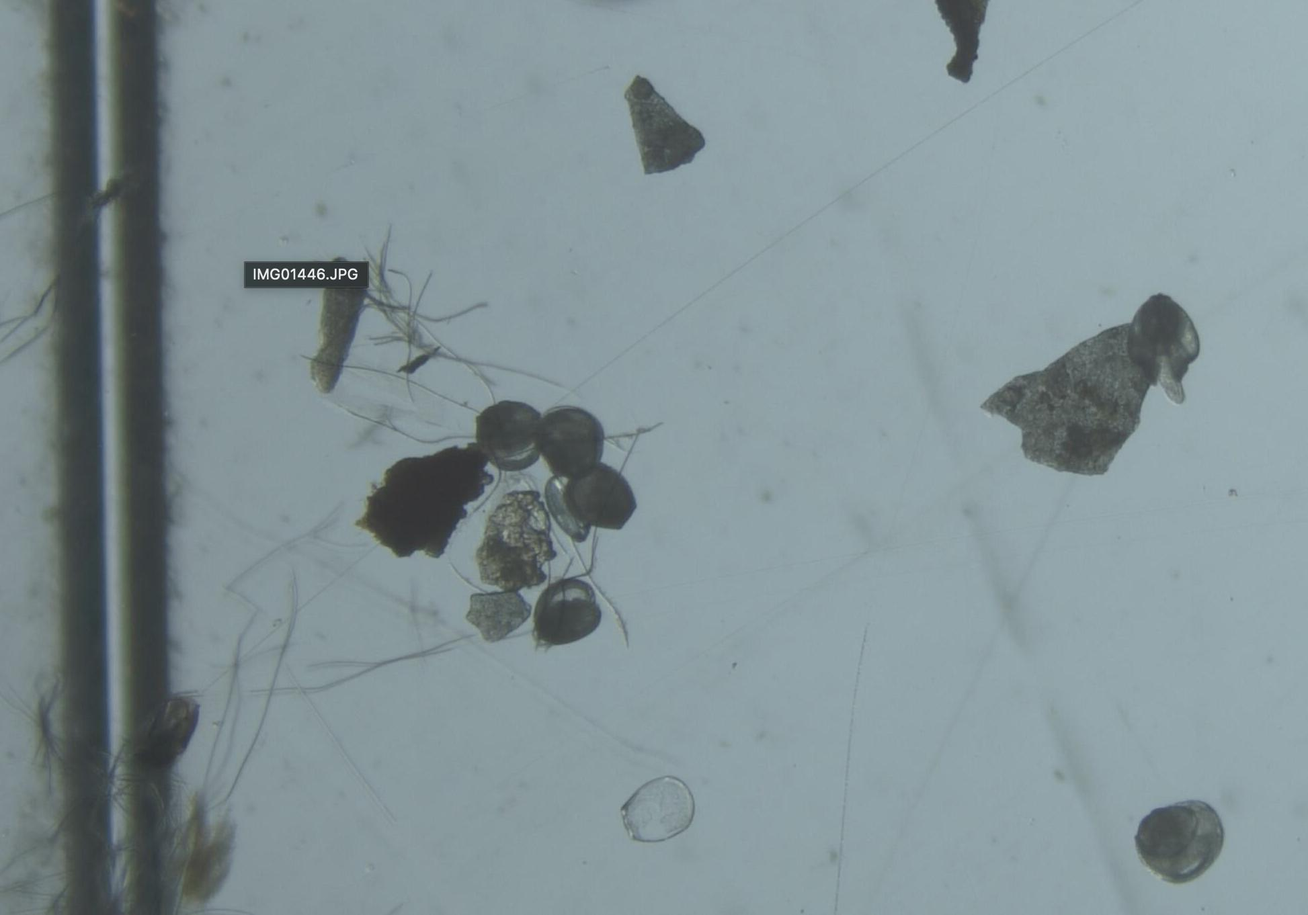dead: (621, 777, 696, 843)
live: (1127, 294, 1200, 404), (1135, 801, 1224, 885), (532, 578, 603, 648), (536, 409, 604, 480), (564, 464, 637, 530), (476, 401, 542, 470), (544, 476, 590, 543)
